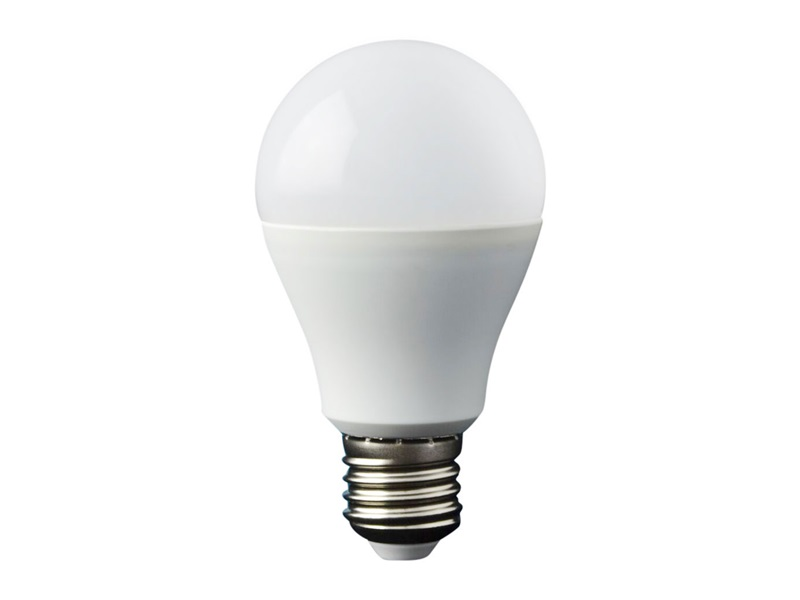Light_bulb: (247, 36, 566, 573)
